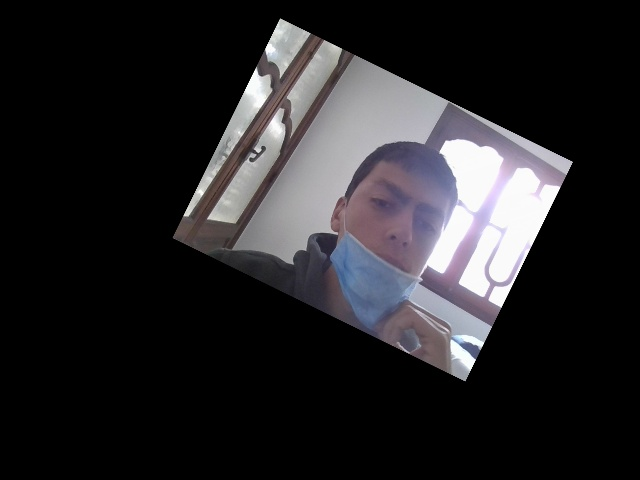mask_weared_incorrect: (339, 155, 447, 316)
